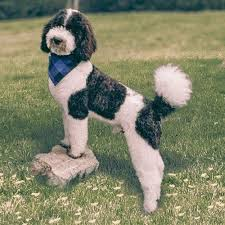Bulldog: (30, 9, 197, 215)
